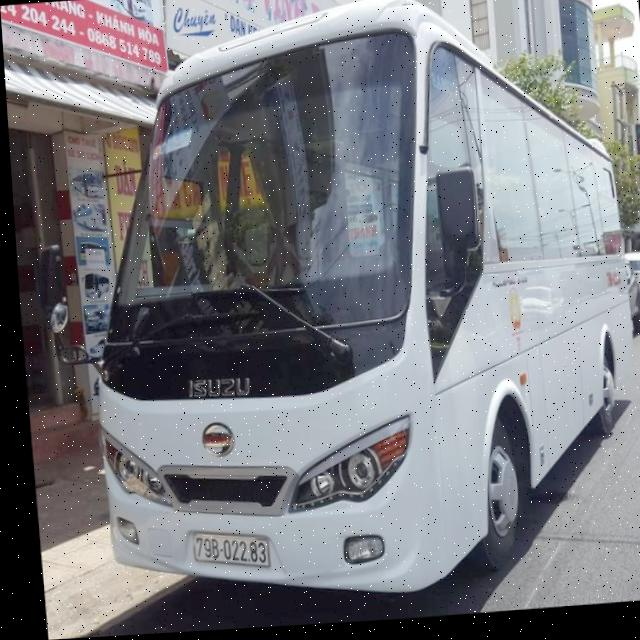car: (38, 2, 640, 626)
plate: (185, 522, 278, 578)
